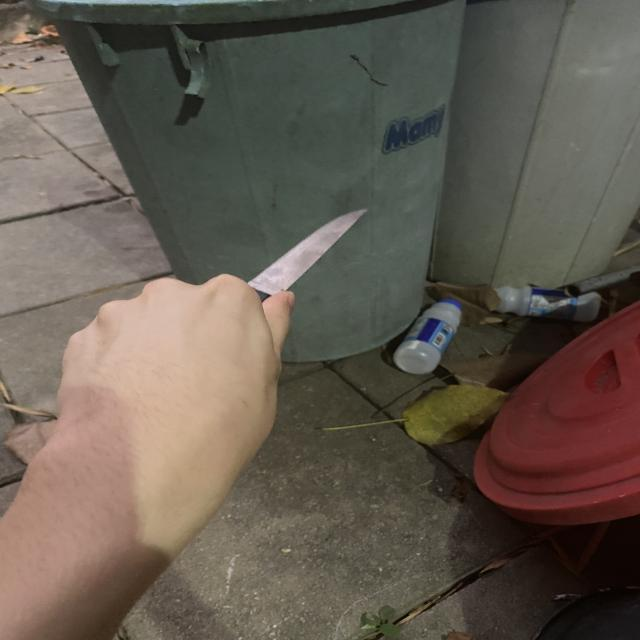faca: (41, 202, 382, 460)
